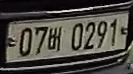0: (18, 25, 33, 58), (71, 22, 84, 52)
1: (108, 16, 119, 48)
2: (84, 20, 97, 51)
7: (34, 25, 48, 55)
9: (97, 19, 108, 50)
버: (48, 25, 63, 53)
